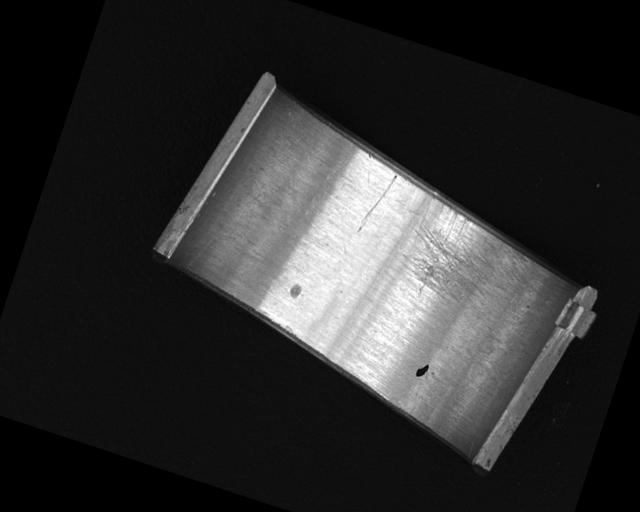blot: (414, 359, 431, 379)
bruise: (287, 282, 303, 299)
nick: (187, 179, 262, 284), (356, 167, 398, 239)
scratch: (389, 189, 541, 322)
